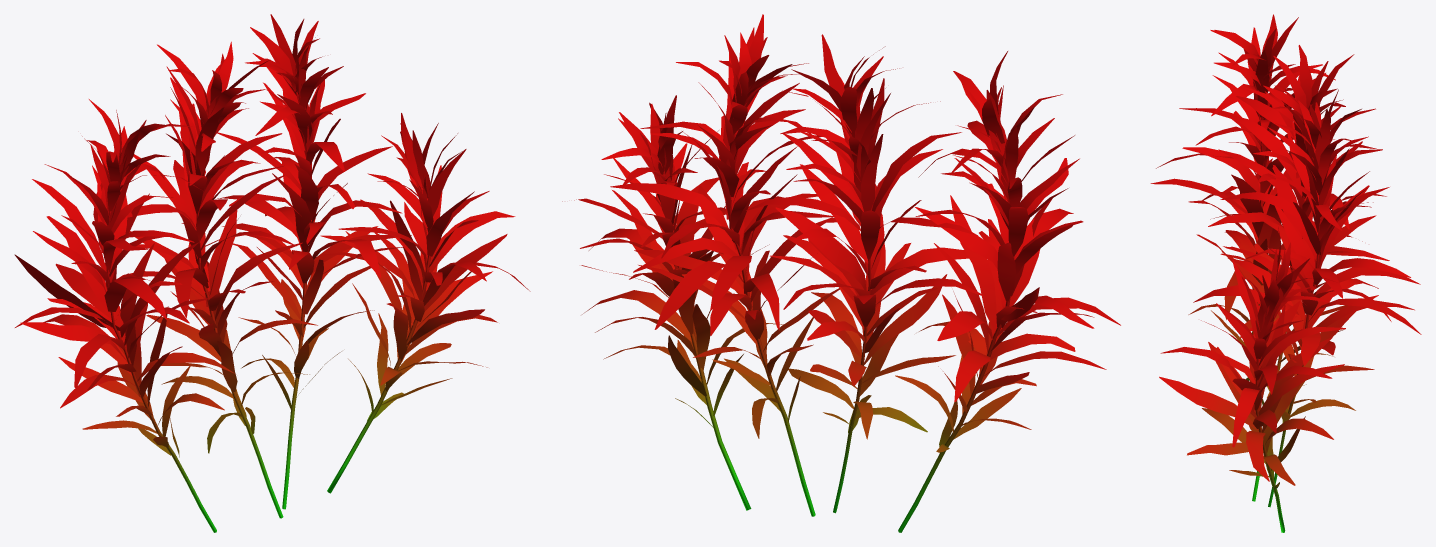
The model's file is Butterfly Weed_LOD2_Var5.fbx.
3 renders of one model, left to right at view 1: azimuth 30°, elevation 25°; view 2: azimuth 150°, elevation 25°; view 3: azimuth 270°, elevation 25°, orthographic. The views are drawn at different scales.
Visible parts, largest first — view 1: _aoue_Var5_LOD2; view 2: _aoue_Var5_LOD2; view 3: _aoue_Var5_LOD2.
Boxes of the visible parts, bbox=[...] form: _aoue_Var5_LOD2: bbox=[14, 14, 530, 532]; _aoue_Var5_LOD2: bbox=[562, 14, 1120, 532]; _aoue_Var5_LOD2: bbox=[1150, 14, 1421, 532].
Size of the model in its own units: 82.31 by 72.98 by 42.14.
